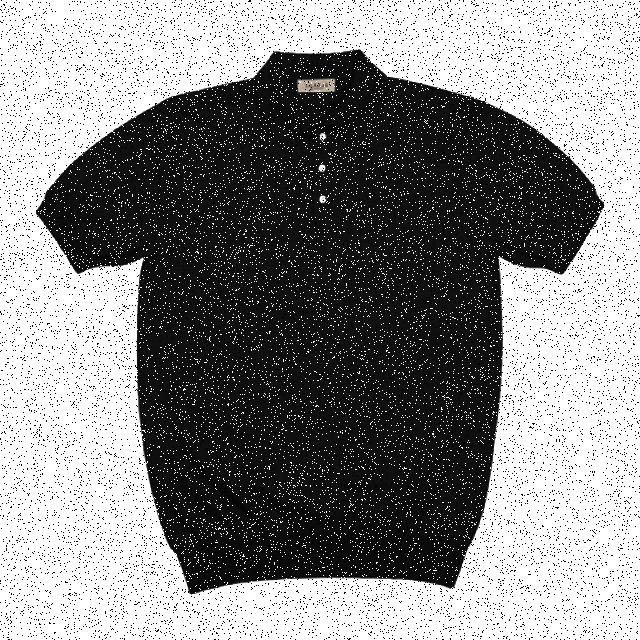dress: (39, 49, 601, 591)
